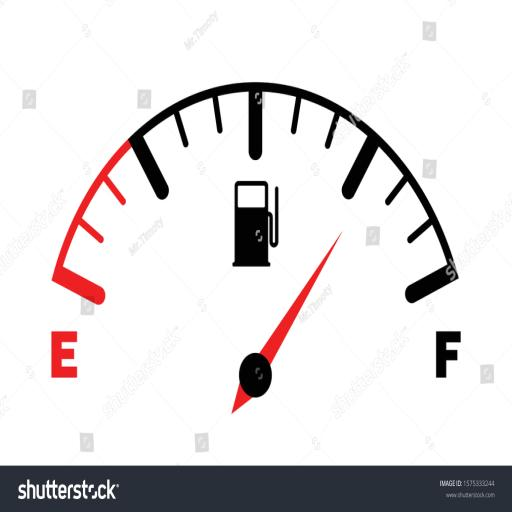empty: (48, 326, 80, 378)
fuel_icon: (232, 177, 279, 267)
full: (429, 326, 465, 382)
guage_area: (44, 75, 469, 418)
needle_center: (236, 345, 278, 406)
needle_tip: (323, 224, 345, 264)
